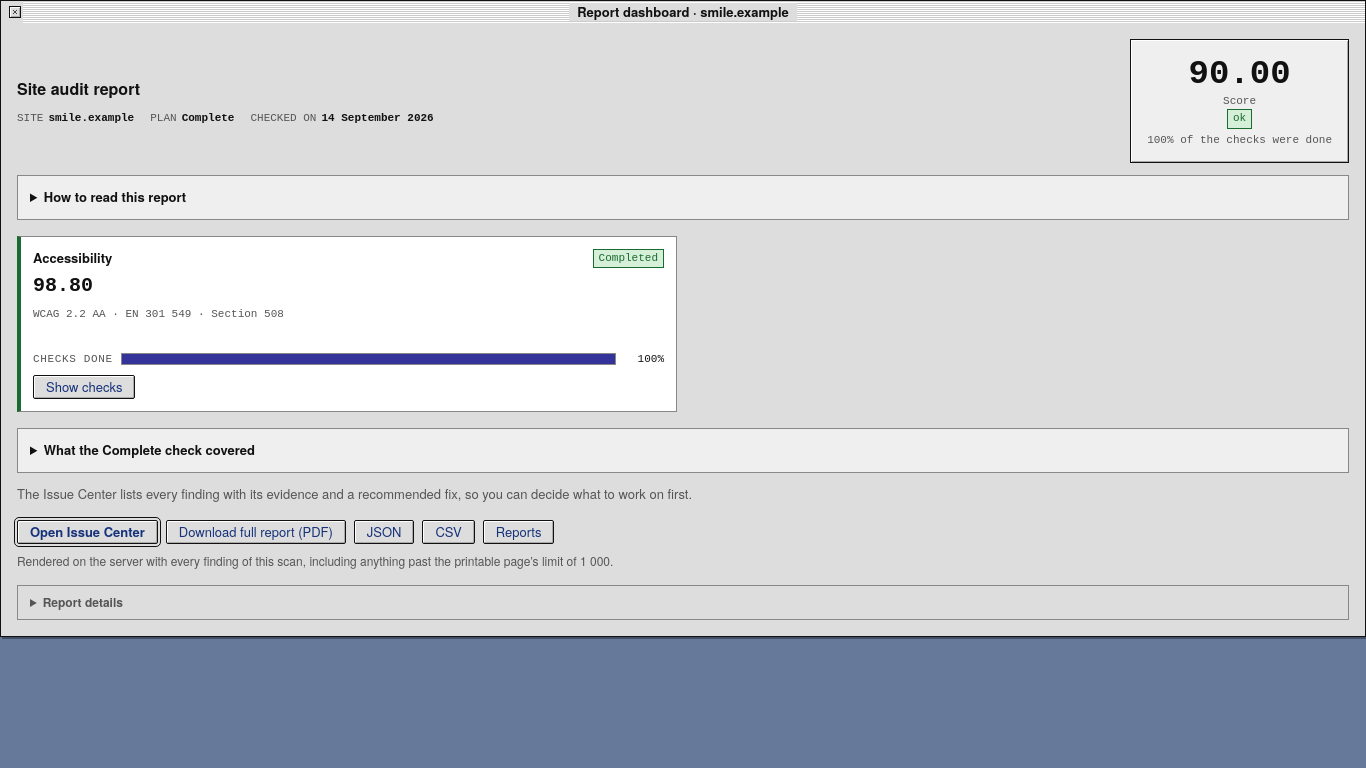
Test: a card whose pages rendered without their own resources › names the pages and why, beside the ones that rendered whole
expect the heading "Site audit report" is shown: met, box x1=17 y1=77 x2=140 y2=100
Click the text "Accessibility": [347, 324] box x1=17 y1=236 x2=677 y2=412
(page scrolled)
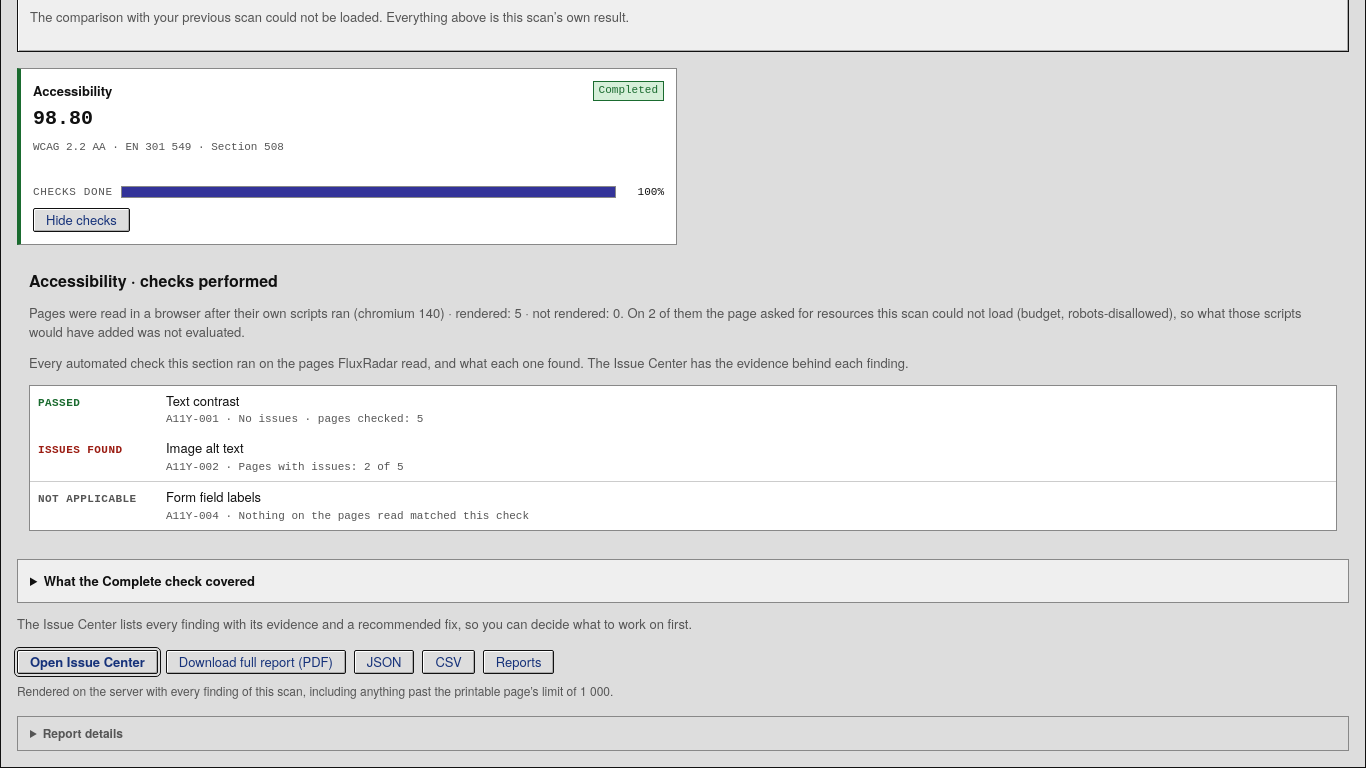
expect the element "Accessibility · checks performed" shows "rendered: 5": met, box x1=29 y1=303 x2=624 y2=322
expect the element "Accessibility · checks performed" shows "On 2 of them the page asked for resources": met, box x1=29 y1=303 x2=1302 y2=341
expect the element "Accessibility · checks performed" shows "budget, robots-disallowed": met, box x1=29 y1=303 x2=1302 y2=341
